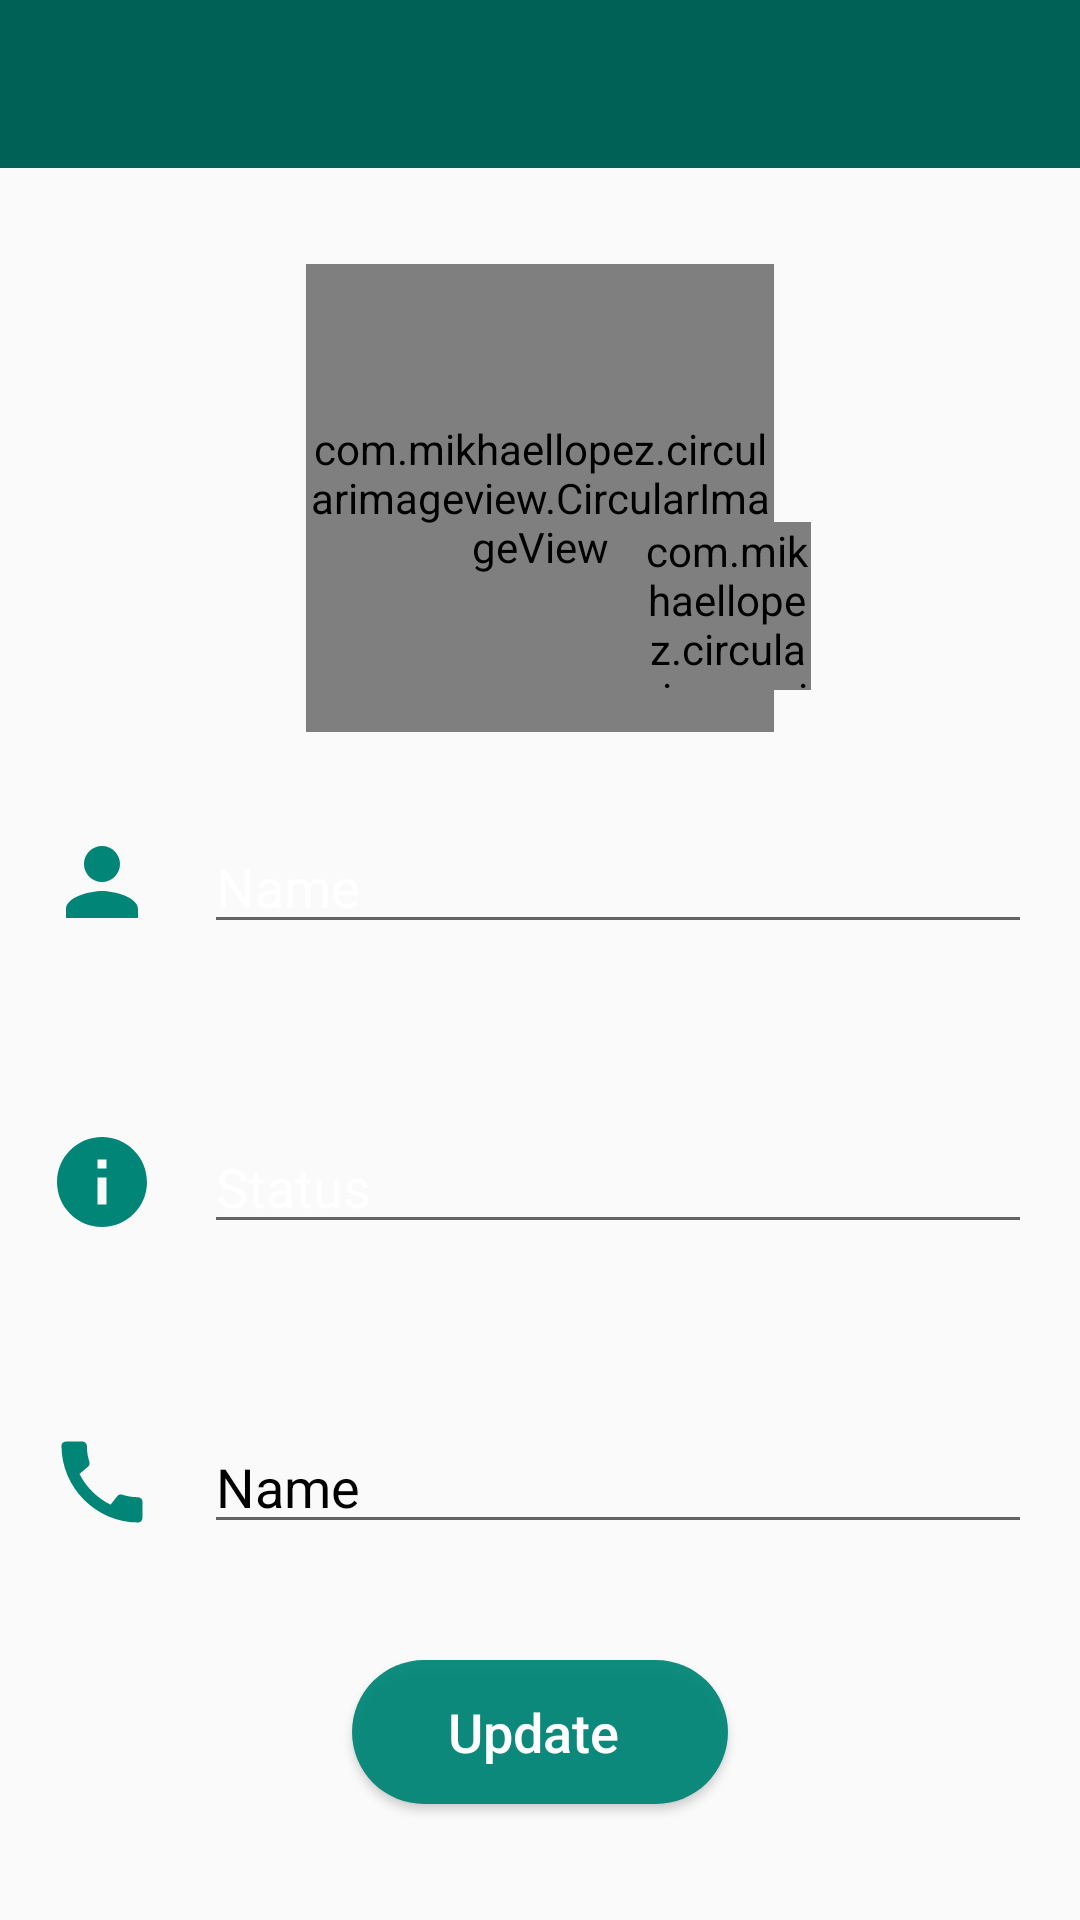

Named icons in this screenshot (1080px×1920px) and their bounding boxes, (x1, y1, x2, y2):
call: (61, 1441, 143, 1523)
info: (57, 1137, 147, 1227)
person: (66, 846, 138, 918)
